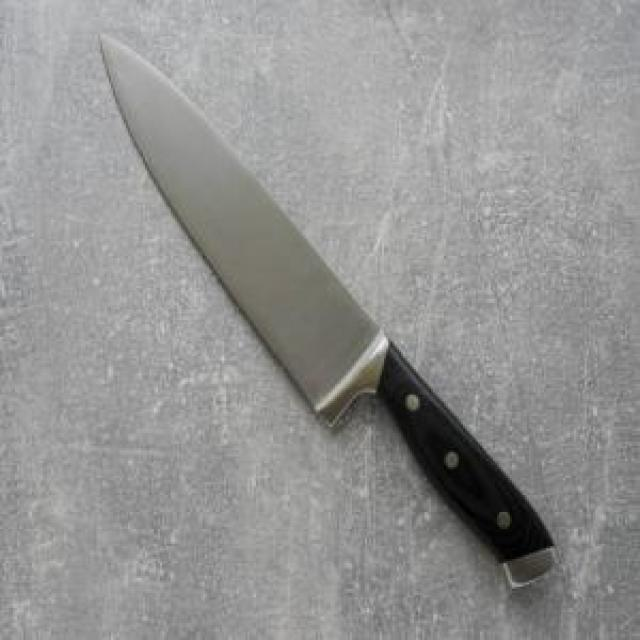knife: (96, 23, 558, 592)
